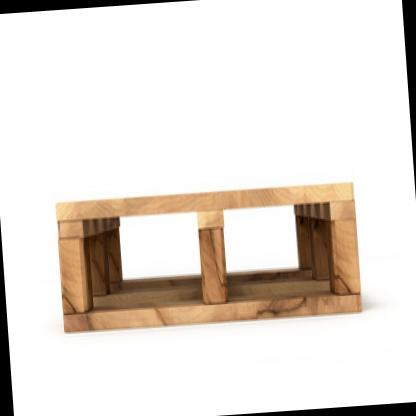BoxFace: (52, 193, 361, 341)
